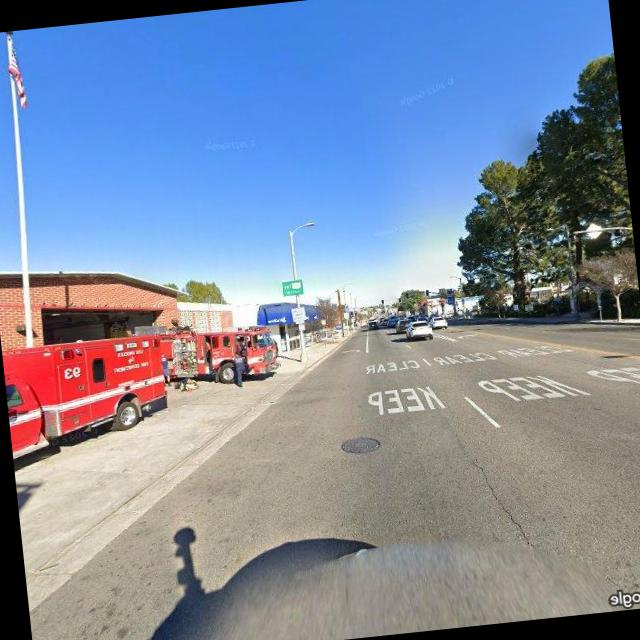pothole: (471, 452, 536, 554)
